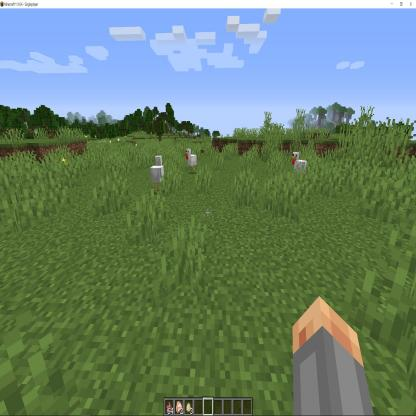minecraft-pigs: (147, 151, 168, 197), (290, 149, 309, 185), (180, 146, 199, 176)
